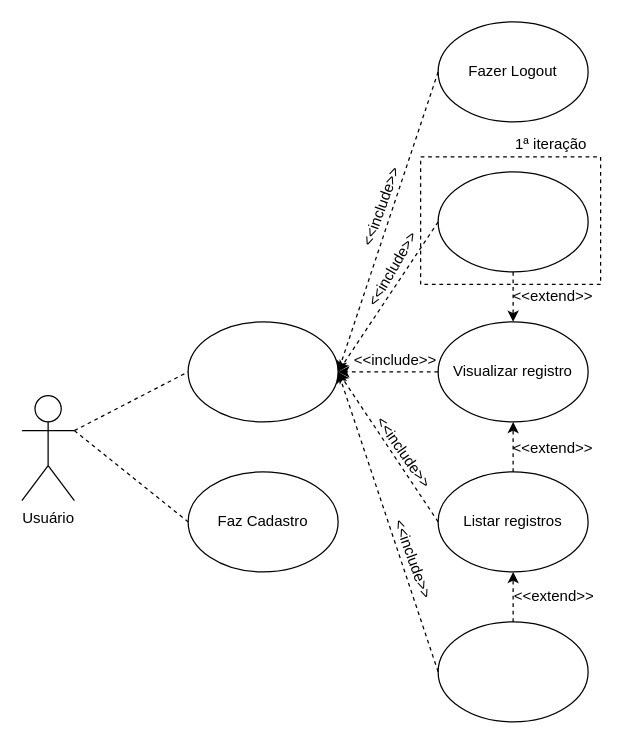
Image size: 623x744. Some labels were removed from this diagram. Here are the shapes that lost their labels. From the top down, the centre of each, then its label:
At (x=512, y=221): "Registrar dia".
At (x=262, y=371): "Faz Login".
At (x=512, y=671): "Pesquisar registros anteriores".
